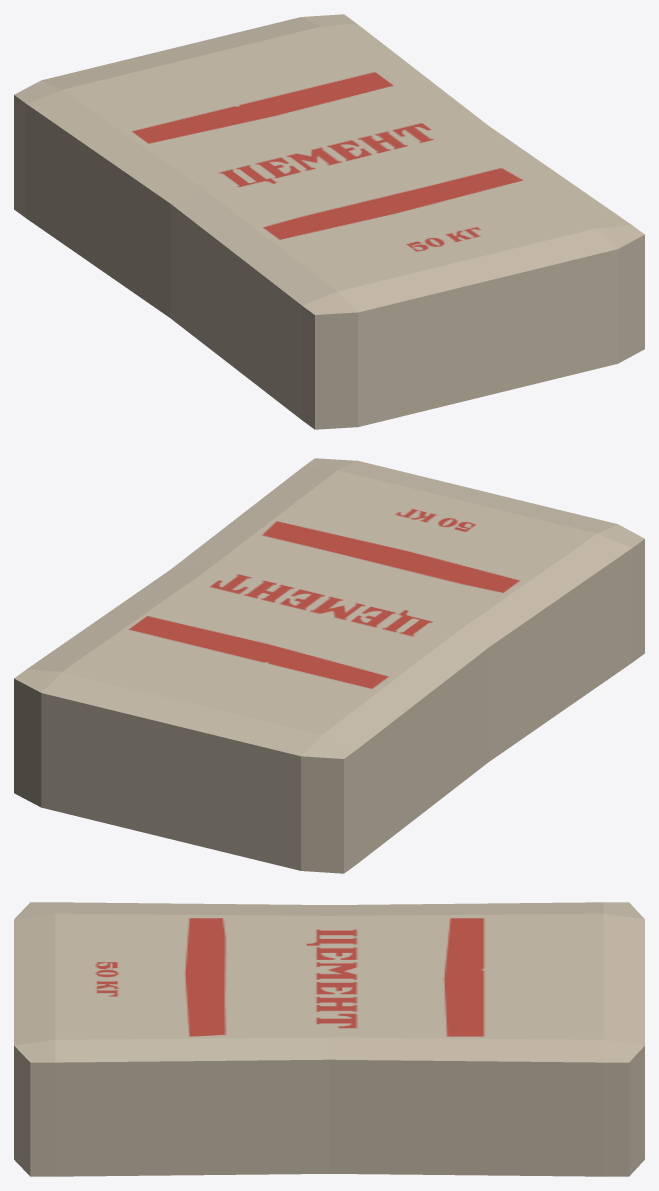
Rendered from Wh_Concrete_Bag.fbx.
The picture shows the model from 3 angles, top to bottom: view 1: azimuth 30°, elevation 25°; view 2: azimuth 150°, elevation 25°; view 3: azimuth 270°, elevation 25°; orthographic projection.
Visible parts, largest first — view 1: Cube.740; view 2: Cube.740; view 3: Cube.740.
Boxes of the visible parts, x1=… form: Cube.740: x1=14, y1=14, x2=644, y2=429; Cube.740: x1=14, y1=458, x2=644, y2=873; Cube.740: x1=14, y1=902, x2=644, y2=1176.
Size of the model in its own units: 44.48 by 16.25 by 74.01.
